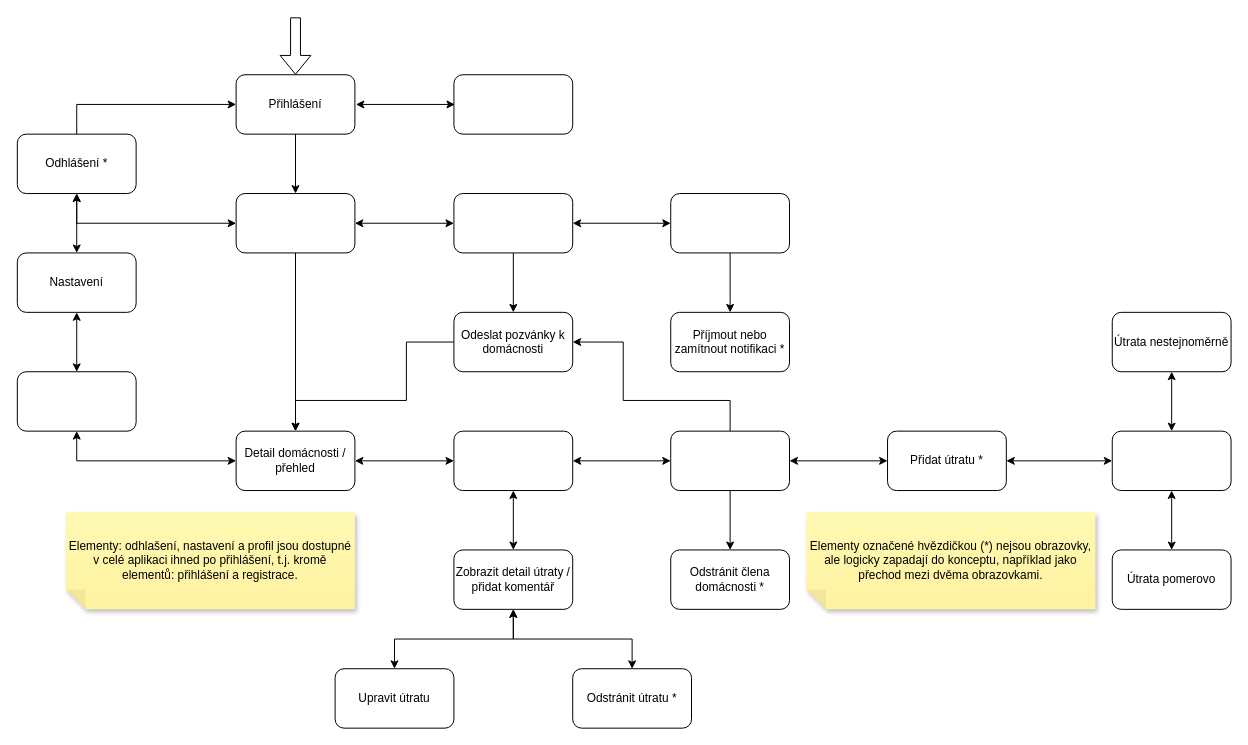
The diagram is 1248 pixels wide and 745 high, and some of its shapes have lost their labels. Each missing label, with the centre of its shape:
"Profil" belongs at (76,401).
"Registrace" belongs at (513,104).
"Seznam domácností" belongs at (295,223).
"Vytvořit domácnost" belongs at (513,223).
"Zobrazit upozornění" belongs at (730,223).
"Zobrazit všechny výdaje" belongs at (513,460).
"Zobrazit členy domácnosti" belongs at (730,460).
"Útrata rovným dílem" belongs at (1171,460).
